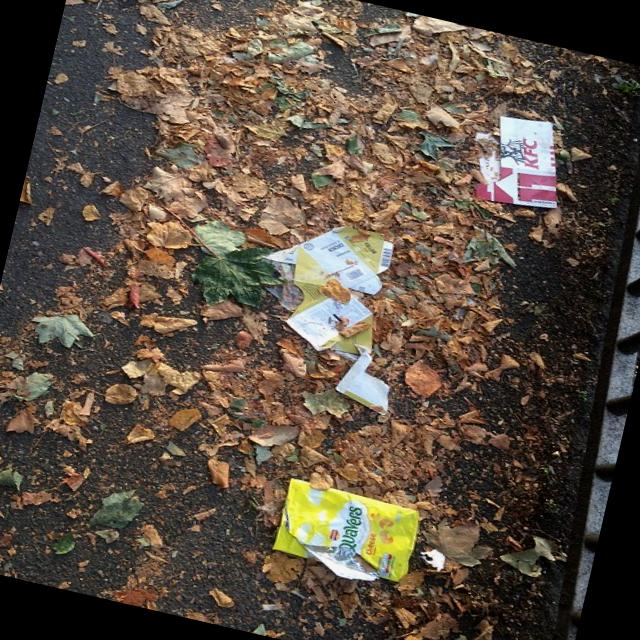Trash: (472, 114, 576, 215)
